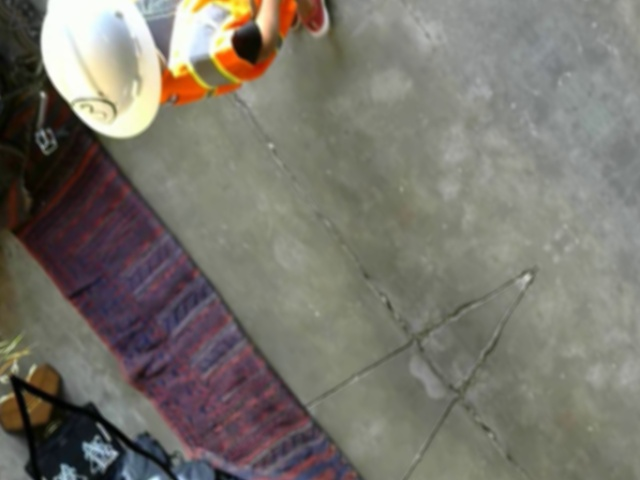three: (68, 81, 119, 140)
